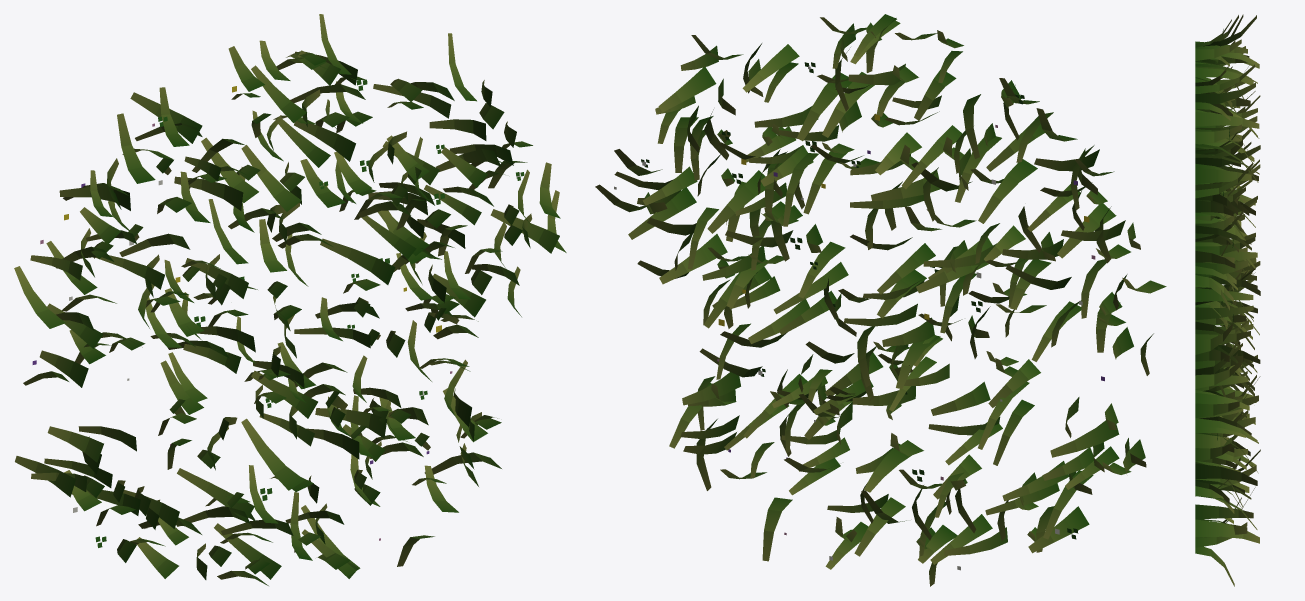
The model's file is Grass_Tile_WildMeadow.glb.
3 views of the same model, side by side, from view 1: azimuth 30°, elevation 25°; view 2: azimuth 150°, elevation 25°; view 3: azimuth 270°, elevation 25° (orthographic). The views are drawn at different scales.
Parts seen in each view (by area): view 1: Grass_Tile_WildMeadow; view 2: Grass_Tile_WildMeadow; view 3: Grass_Tile_WildMeadow.
Part boxes in pixels (x1,y1,x2,y2): Grass_Tile_WildMeadow: [14, 14, 566, 585]; Grass_Tile_WildMeadow: [595, 14, 1166, 586]; Grass_Tile_WildMeadow: [1195, 14, 1260, 586].
Bounding box in the file's own units: 1.88 × 1.87 × 0.3278.
